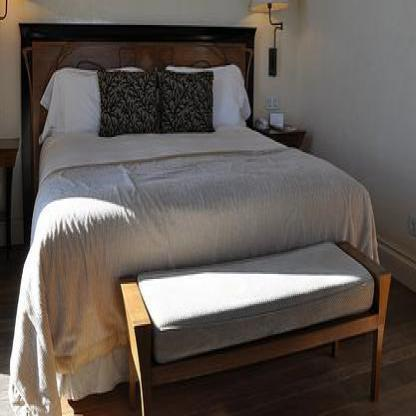Bed: (11, 15, 393, 416)
